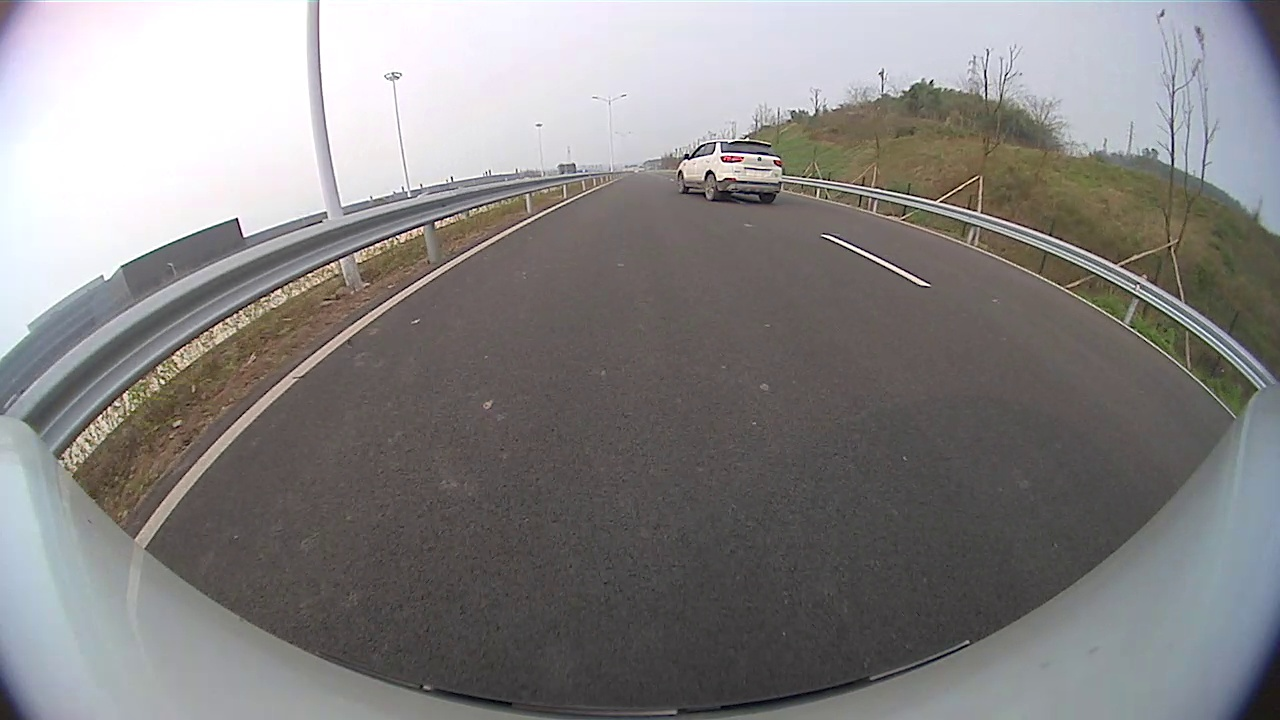car: (675, 138, 784, 205)
front: (675, 173, 689, 194)
rear: (703, 173, 722, 203)
